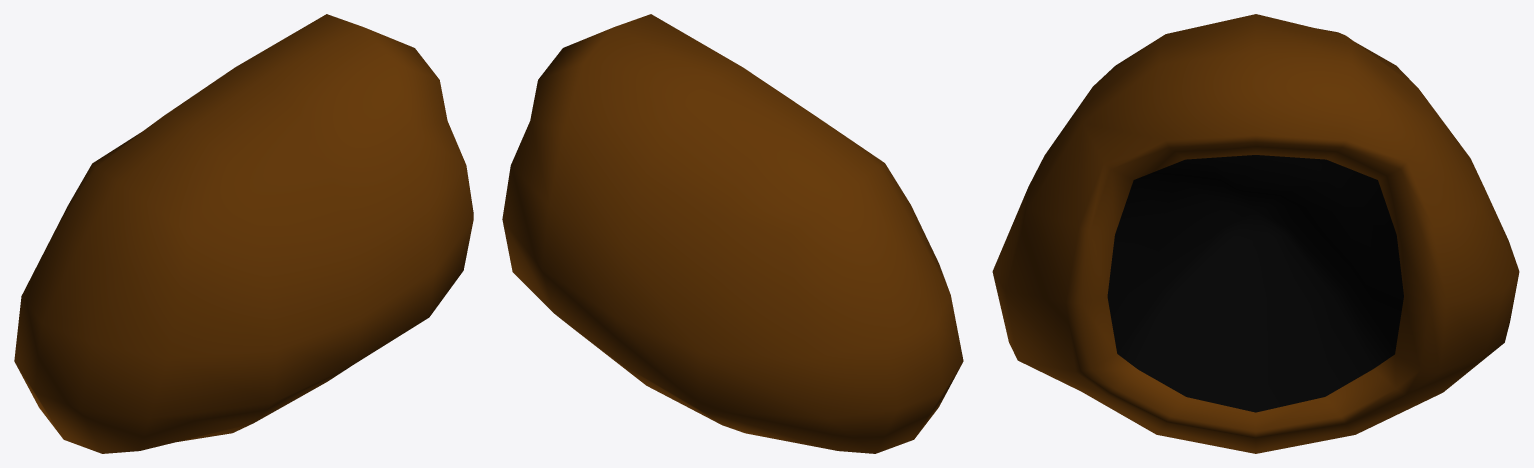
Rendered from Madrigera.fbx.
3 views of the same model, side by side, from view 1: azimuth 30°, elevation 25°; view 2: azimuth 150°, elevation 25°; view 3: azimuth 270°, elevation 25° (orthographic). The views are drawn at different scales.
Visible parts, largest first — view 1: Madriguera; view 2: Madriguera; view 3: Madriguera.
Part boxes in pixels (x1,y1,x2,y2): Madriguera: (14,14,473,453); Madriguera: (502,14,963,453); Madriguera: (992,14,1519,453).
Bounding box in the file's own units: 770 × 681 × 647.
